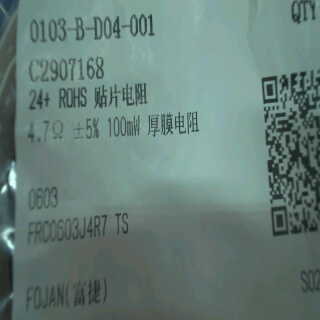4.7R: (23, 116, 68, 147)
